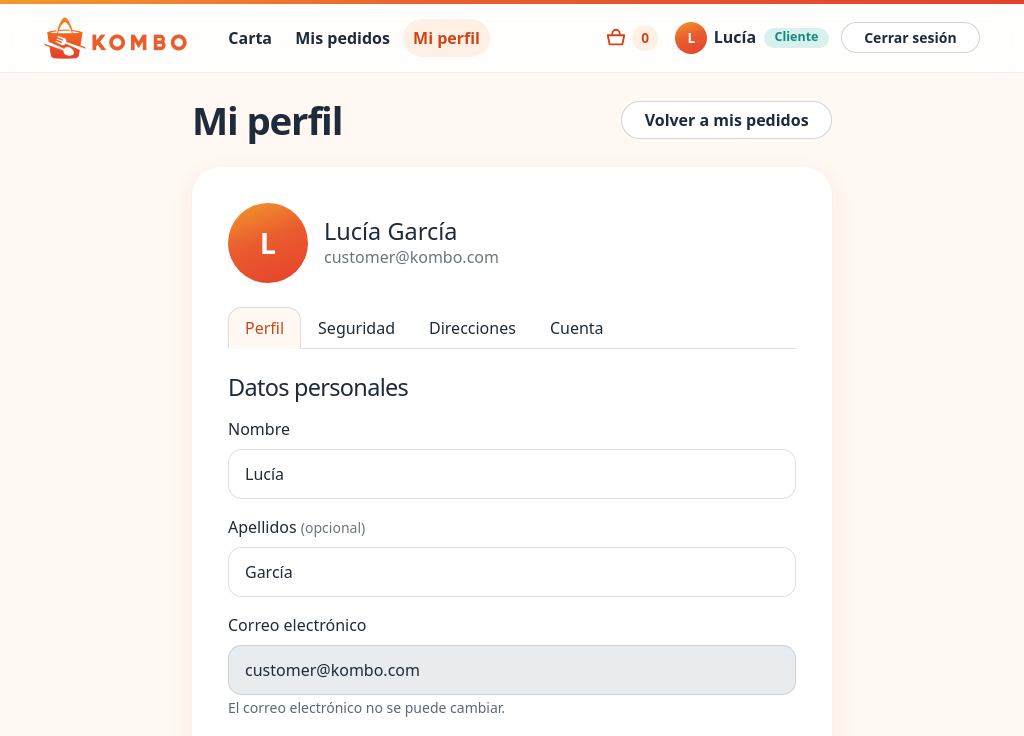
Test: ProfileSettingsPage › saves only the personal data and reads the session again
Replace the text in the field labelled "Nombre" with " Lucía María ": (512, 474) x1=228 y1=449 x2=796 y2=499
(page scrolled)
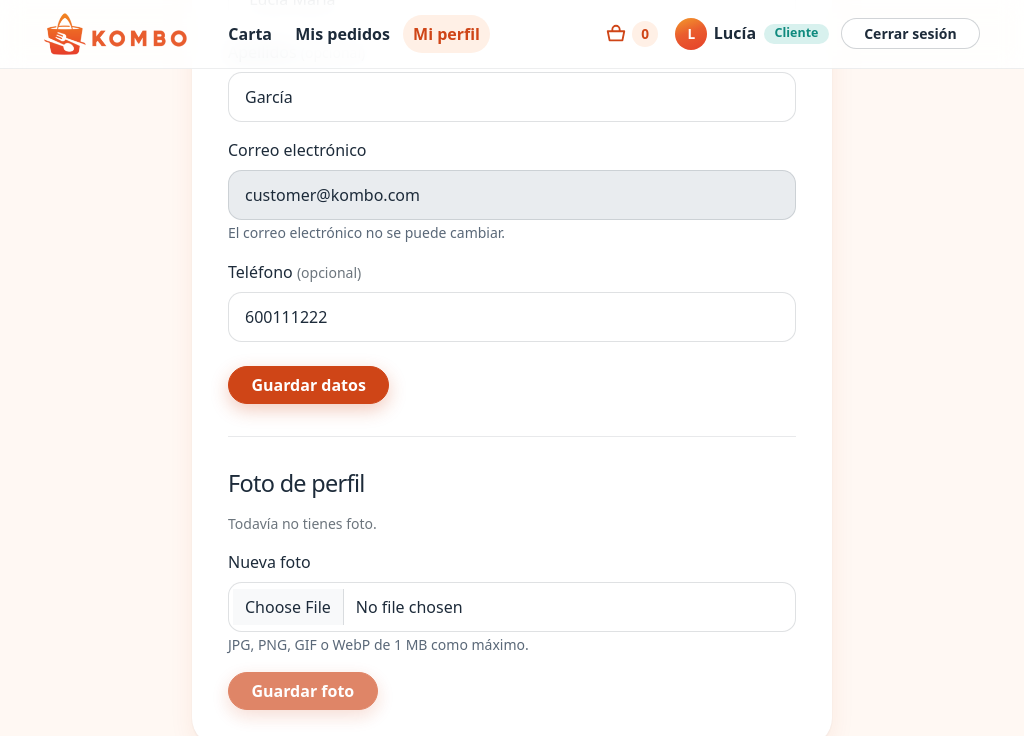
Click the button "Guardar datos": (309, 385) x1=228 y1=366 x2=389 y2=404
(page scrolled)
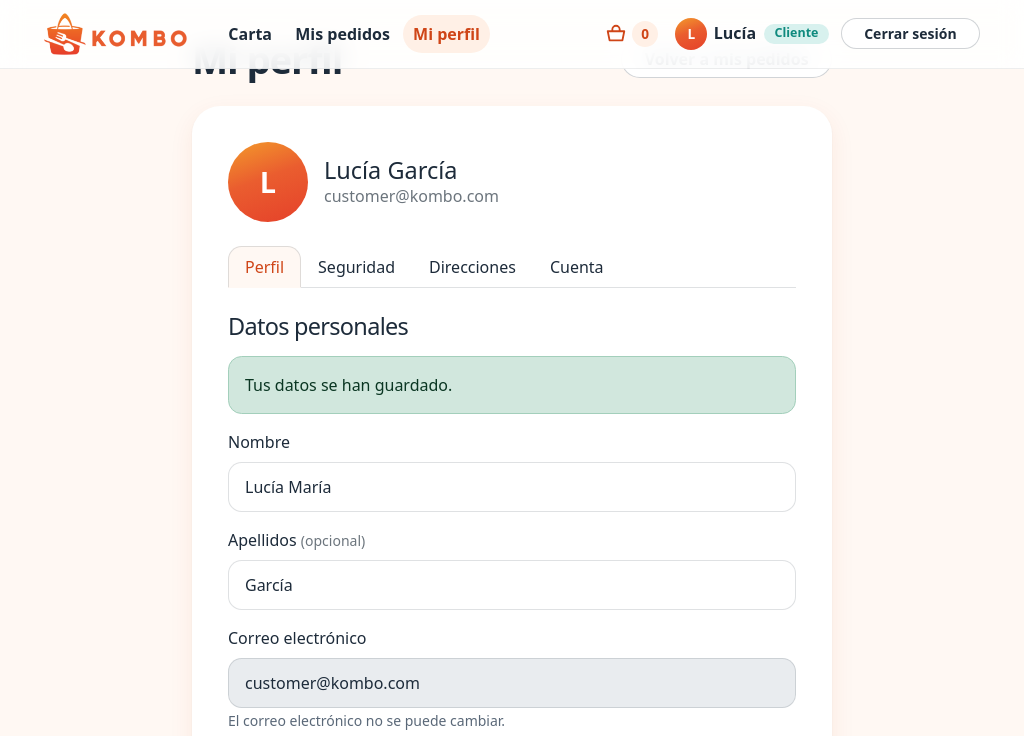
Expected: the text "Tus datos se han guardado." is shown, x1=228 y1=356 x2=796 y2=414
